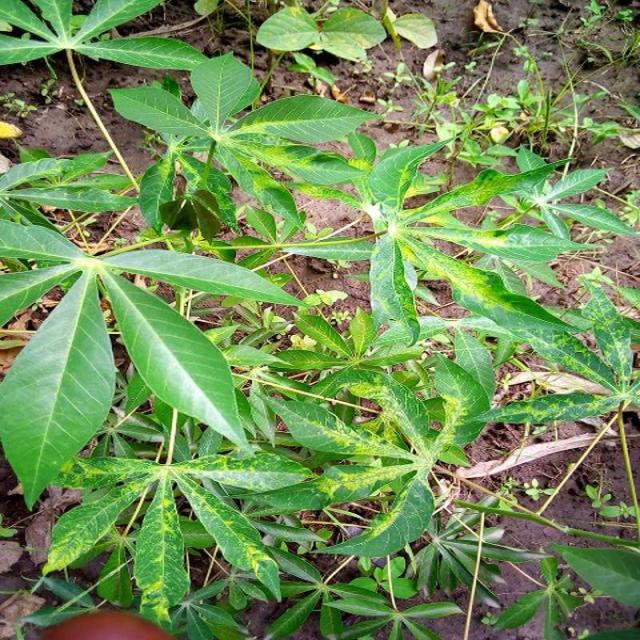cassava leaf: (99, 264, 253, 453), (1, 264, 118, 511)
